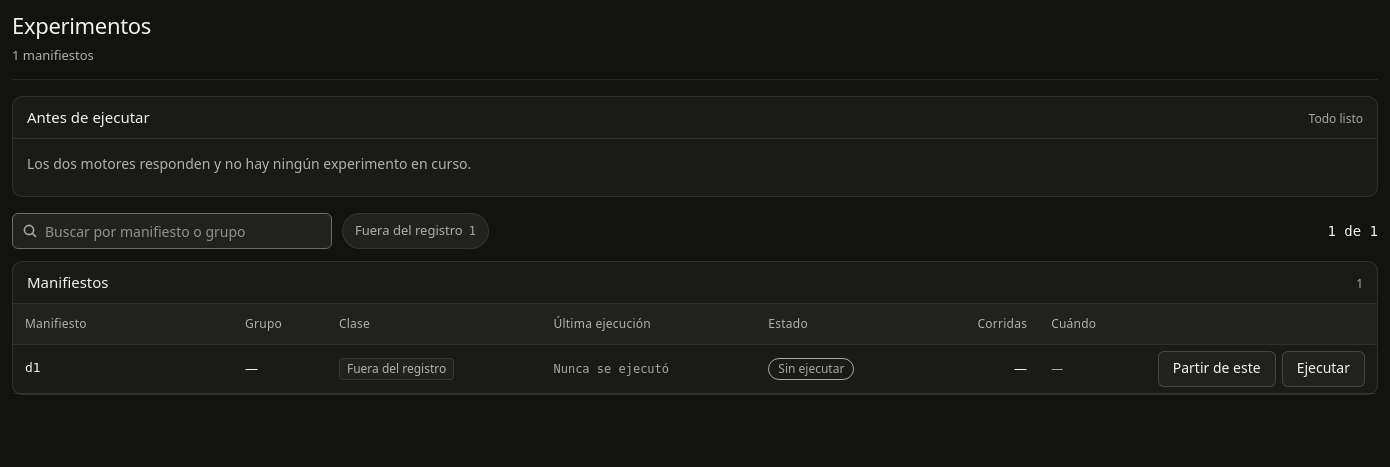
Scenario: ExperimentsPage › muestra 409 con el experimento activo
Expected: the text "d1" is shown, [25, 360, 41, 375]
Click the button "Ejecutar". click: (1323, 368)
box: [1282, 350, 1365, 386]
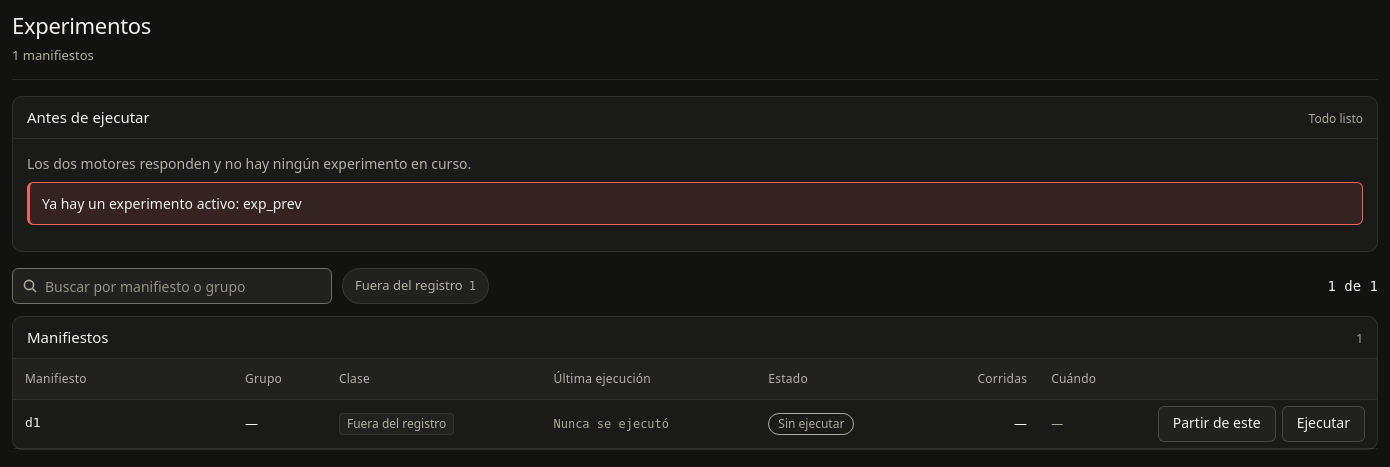
Now the text "Ya hay un experimento activo: exp_prev" is shown, box [42, 194, 302, 213]
